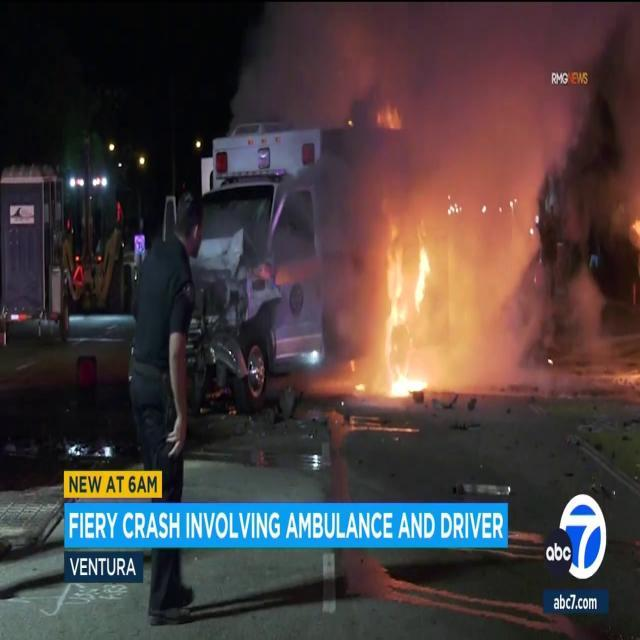Smoke: (314, 3, 640, 401)
